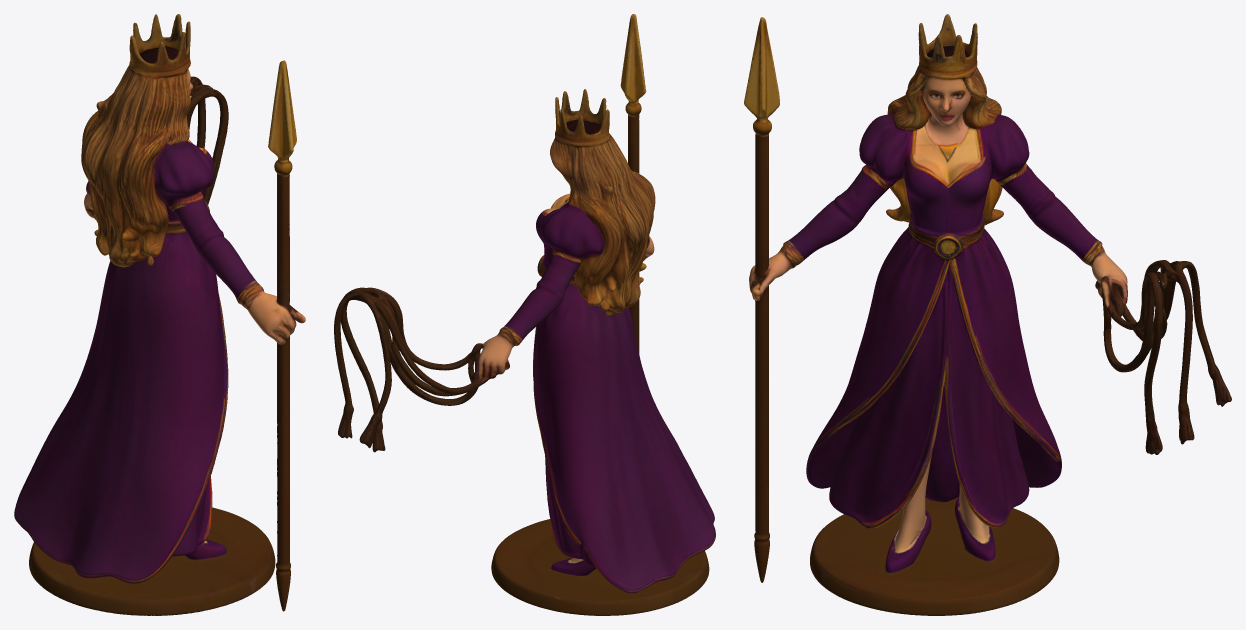
3 renders of one model, left to right at view 1: azimuth 30°, elevation 25°; view 2: azimuth 150°, elevation 25°; view 3: azimuth 270°, elevation 25°, orthographic. The views are drawn at different scales.
Visible parts, largest first — view 1: tripo_node_97710a43-aa06-440b-a0a7-7a2f19e06131; view 2: tripo_node_97710a43-aa06-440b-a0a7-7a2f19e06131; view 3: tripo_node_97710a43-aa06-440b-a0a7-7a2f19e06131.
Part boxes in pixels (left/top/right/bottom): tripo_node_97710a43-aa06-440b-a0a7-7a2f19e06131: left=14, top=14, right=305, bottom=615; tripo_node_97710a43-aa06-440b-a0a7-7a2f19e06131: left=334, top=14, right=715, bottom=615; tripo_node_97710a43-aa06-440b-a0a7-7a2f19e06131: left=744, top=14, right=1231, bottom=615.
Size of the model in its own units: 0.5489 by 1 by 0.777.
Materials: 1 (1 with a texture image).
